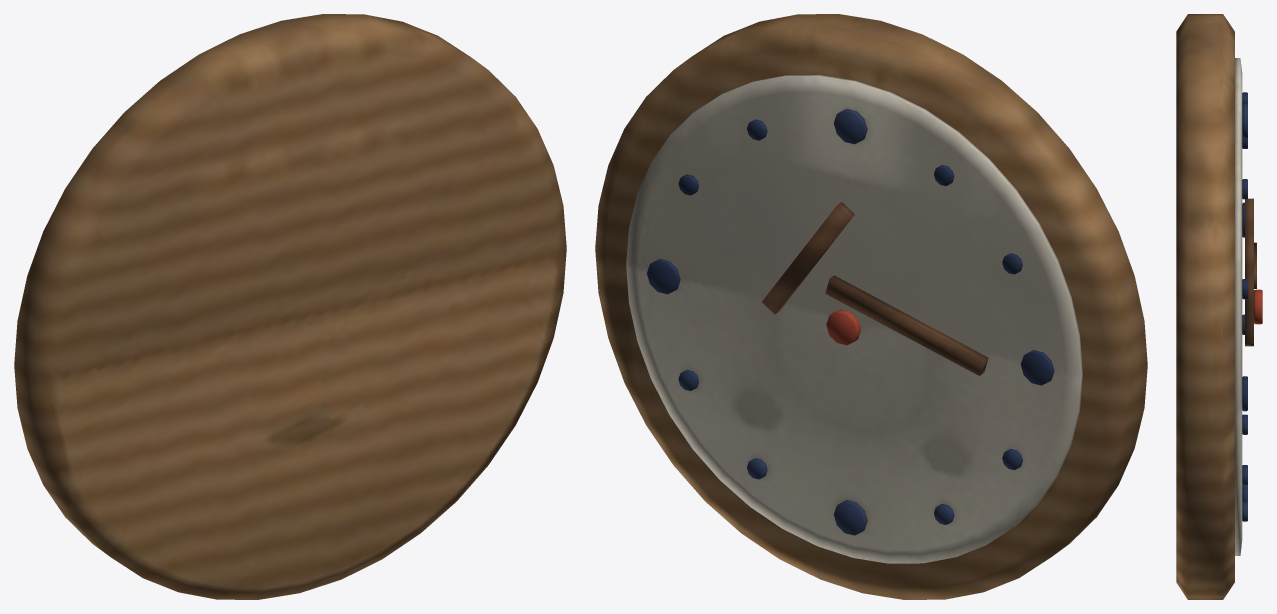
File: wall_clock.glb
The picture shows the model from 3 angles, left to right: view 1: azimuth 30°, elevation 25°; view 2: azimuth 150°, elevation 25°; view 3: azimuth 270°, elevation 25°; orthographic projection. The views are drawn at different scales.
Visible parts, largest first — view 1: wall_clock_wood; view 2: wall_clock_felt_ivory, wall_clock_wood, wall_clock_wood_dark, wall_clock_felt_indigo, wall_clock_felt_red; view 3: wall_clock_wood, wall_clock_felt_ivory, wall_clock_felt_indigo, wall_clock_wood_dark, wall_clock_felt_red.
Part boxes in pixels (x1,y1,x2,y2): wall_clock_wood: [14, 14, 566, 599]; wall_clock_felt_ivory: [626, 75, 1082, 563]; wall_clock_wood: [595, 14, 1147, 599]; wall_clock_wood_dark: [762, 202, 988, 375]; wall_clock_felt_indigo: [647, 109, 1054, 535]; wall_clock_felt_red: [826, 309, 860, 345]; wall_clock_wood: [1176, 14, 1234, 599]; wall_clock_felt_ivory: [1235, 58, 1242, 555]; wall_clock_felt_indigo: [1242, 92, 1247, 521]; wall_clock_wood_dark: [1245, 198, 1256, 346]; wall_clock_felt_red: [1254, 289, 1262, 324].
Bounding box in the file's own units: 0.8 × 0.8 × 0.118.
Materials: 5 (5 with a texture image).
